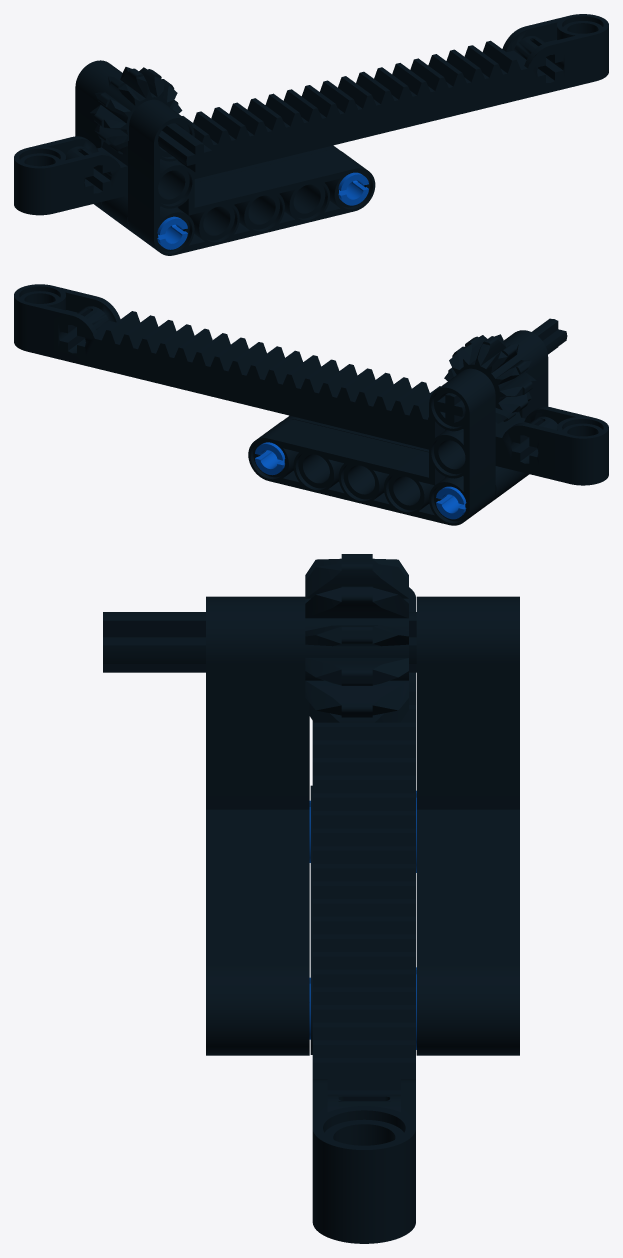
The model's file is linear_motion_3.glb.
3 renders of one model, top to bottom at view 1: azimuth 30°, elevation 25°; view 2: azimuth 150°, elevation 25°; view 3: azimuth 270°, elevation 25°, orthographic. The views are drawn at different scales.
Visible parts, largest first — view 1: 64781.dat, 32526.dat.001, 32270.dat, 32526.dat, 32316.dat, 6558.dat.001, 6558.dat; view 2: 64781.dat, 32526.dat, 32270.dat, 32526.dat.001, 32316.dat, 6558.dat.001, 6558.dat; view 3: 64781.dat, 32526.dat, 32526.dat.001, 32270.dat.
Part boxes in pixels (<box>): 64781.dat: <box>14,14,608,215</box>; 32526.dat.001: <box>128,99,375,255</box>; 32270.dat: <box>90,67,212,172</box>; 32526.dat: <box>75,60,122,213</box>; 32316.dat: <box>101,145,339,232</box>; 6558.dat.001: <box>338,172,368,205</box>; 6558.dat: <box>157,216,187,249</box>; 64781.dat: <box>14,284,608,485</box>; 32526.dat: <box>248,368,495,525</box>; 32270.dat: <box>436,318,567,423</box>; 32526.dat.001: <box>504,330,548,482</box>; 32316.dat: <box>283,415,521,502</box>; 6558.dat.001: <box>255,442,285,475</box>; 6558.dat: <box>436,486,466,519</box>; 64781.dat: <box>312,587,415,1243</box>; 32526.dat: <box>416,596,519,1055</box>; 32526.dat.001: <box>206,596,309,1055</box>; 32270.dat: <box>103,554,416,722</box>.
Size of the model in its own units: 2.6 by 0.6587 by 0.798.
